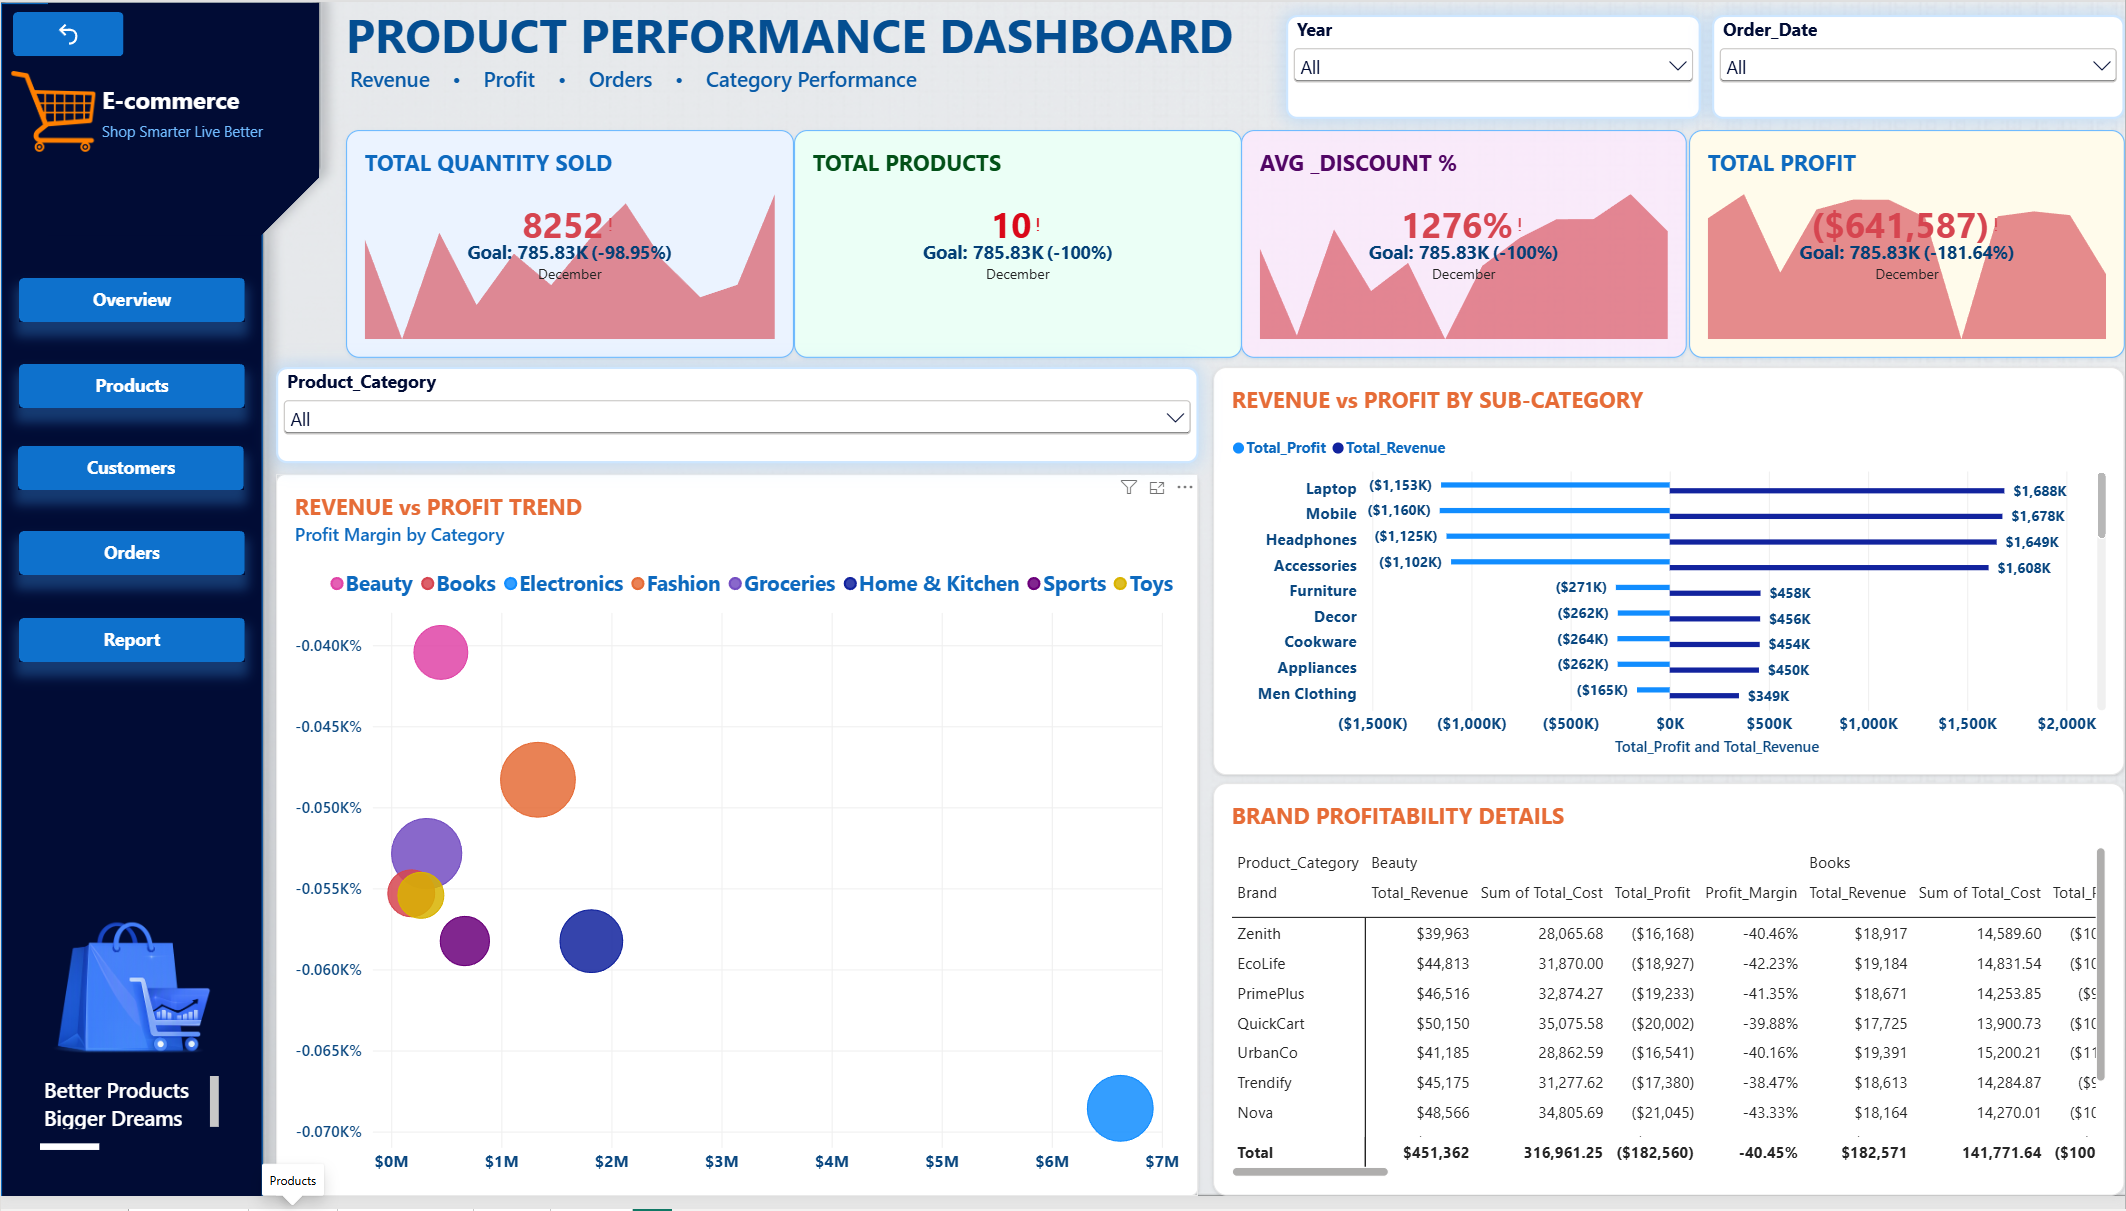

The dashboard page shown, as its layout file describes it:
{"tool":"powerbi","page":{"name":"Products","canvas":[1920,1080],"ordinal":1},"visuals":[{"type":"textbox","box":[312,0,820.6,98.3],"z":0},{"type":"textbox","box":[315.1,56.9,644.9,48.1],"z":1000},{"type":"shape","box":[0,0.9,236.6,1079.8],"z":2000,"group":"g1"},{"type":"slicer","fields":{"Values":["ecommerce_orders_dataset (1).Year"]},"box":[1161.8,11.3,375.3,93.6],"z":2000},{"type":"shape","box":[42.2,0.9,245.4,210.1],"z":3000,"group":"g1"},{"type":"slicer","fields":{"Values":["ecommerce_orders_dataset (1).Order_Date.Variation.Date Hierarchy.Month"]},"box":[1546.6,11.3,373.4,93.6],"z":3000},{"type":"group","id":"g1","title":"Group 1","box":[0,0.9,287.5,1079.3],"z":4000},{"type":"kpi","title":"TOTAL QUANTITY SOLD","fields":{"Goal":["Calendar.Revenue LY"],"Indicator":["Calendar.Total Quantity Sold"],"TrendLine":["Calendar.Calendar Month"]},"box":[312,115.3,404.6,206.1],"z":5000},{"type":"kpi","title":"TOTAL PRODUCTS","fields":{"Goal":["Calendar.Revenue LY"],"Indicator":["Calendar.Total Brands"],"TrendLine":["Calendar.Calendar Month"]},"box":[716.6,115.3,404.6,206.1],"z":6000},{"type":"kpi","title":"AVG _DISCOUNT %","fields":{"Goal":["Calendar.Revenue LY"],"Indicator":["Calendar.AVG Discount"],"TrendLine":["Calendar.Calendar Month"]},"box":[1121.2,115.3,402.7,206.1],"z":7000},{"type":"kpi","title":"TOTAL PROFIT","fields":{"Goal":["Calendar.Revenue LY"],"Indicator":["ecommerce_orders_dataset (1).Total_Profit"],"TrendLine":["Calendar.Calendar Month"]},"box":[1525.8,115.3,394.2,206.1],"z":8000},{"type":"image","box":[26.2,827.8,184.5,128.4],"z":9000},{"type":"textbox","box":[38.6,971.2,158,48.1],"z":10000},{"type":"shape","box":[34.9,989.9,53.6,89.8],"z":11000},{"type":"scatterChart","title":"REVENUE vs PROFIT TREND","fields":{"Series":["ecommerce_orders_dataset (1).Product_Category"],"Size":["Sum(ecommerce_orders_dataset (1).Quantity)"],"X":["ecommerce_orders_dataset (1).Total_Revenue"],"Y":["ecommerce_orders_dataset (1).Profit_Margin"]},"box":[248.6,426.4,833.8,653.2],"z":12000},{"type":"clusteredBarChart","title":"REVENUE vs PROFIT BY SUB-CATEGORY","fields":{"Category":["ecommerce_orders_dataset (1).Product_Subcategory"],"Y":["ecommerce_orders_dataset (1).Total_Profit","ecommerce_orders_dataset (1).Total_Revenue"]},"box":[1095.7,329.9,824.3,368.7],"z":13000},{"type":"pivotTable","title":"BRAND PROFITABILITY DETAILS","fields":{"Columns":["ecommerce_orders_dataset (1).Product_Category"],"Rows":["ecommerce_orders_dataset (1).Brand"],"Values":["ecommerce_orders_dataset (1).Total_Revenue","Sum(ecommerce_orders_dataset (1).Total_Cost)","ecommerce_orders_dataset (1).Total_Profit","ecommerce_orders_dataset (1).Profit_Margin"]},"box":[1095.7,706.2,824.3,373.4],"z":14000},{"type":"slicer","fields":{"Values":["ecommerce_orders_dataset (1).Product_Category"]},"box":[248.6,329.9,834,87],"z":15000},{"type":"actionButton","box":[16.3,249.5,204.3,39.8],"z":16000},{"type":"actionButton","box":[15.4,401.4,204.3,39.8],"z":17000},{"type":"actionButton","box":[16.3,478.2,204.3,39.8],"z":18000},{"type":"image","box":[6.3,62.4,82.5,72.6],"z":19000},{"type":"textbox","box":[91.3,74.1,145.5,31.6],"z":20000},{"type":"textbox","box":[91.2,106.2,158.2,47.9],"z":22000},{"type":"actionButton","box":[16.3,327.2,204.3,39.8],"z":23000},{"type":"actionButton","box":[16.3,556.8,204.3,39.8],"z":24000},{"type":"actionButton","box":[10.8,9,100,40],"z":24001}]}

Visuals, with their boxes on the page's 1920x1080 design canvas (x1, y1, x2, y2). These are canvas units, not pixel positions in the 2126x1211 screenshot, which may show the page scaled, cropped or inside an application window:
textbox: crop(312, 0, 1133, 98)
textbox: crop(315, 57, 960, 105)
shape: crop(0, 1, 237, 1081)
slicer - ecommerce_orders_dataset (1).Year: crop(1162, 11, 1537, 105)
shape: crop(42, 1, 288, 211)
slicer - ecommerce_orders_dataset (1).Order_Date.Variation.Date Hierarchy.Month: crop(1547, 11, 1920, 105)
"Group 1" group: crop(0, 1, 288, 1080)
"TOTAL QUANTITY SOLD" kpi: crop(312, 115, 717, 321)
"TOTAL PRODUCTS" kpi: crop(717, 115, 1121, 321)
"AVG _DISCOUNT %" kpi: crop(1121, 115, 1524, 321)
"TOTAL PROFIT" kpi: crop(1526, 115, 1920, 321)
image: crop(26, 828, 211, 956)
textbox: crop(39, 971, 197, 1019)
shape: crop(35, 990, 88, 1080)
"REVENUE vs PROFIT TREND" scatterChart: crop(249, 426, 1082, 1080)
"REVENUE vs PROFIT BY SUB-CATEGORY" clusteredBarChart: crop(1096, 330, 1920, 699)
"BRAND PROFITABILITY DETAILS" pivotTable: crop(1096, 706, 1920, 1080)
slicer - ecommerce_orders_dataset (1).Product_Category: crop(249, 330, 1083, 417)
actionButton: crop(16, 250, 221, 289)
actionButton: crop(15, 401, 220, 441)
actionButton: crop(16, 478, 221, 518)
image: crop(6, 62, 89, 135)
textbox: crop(91, 74, 237, 106)
textbox: crop(91, 106, 249, 154)
actionButton: crop(16, 327, 221, 367)
actionButton: crop(16, 557, 221, 597)
actionButton: crop(11, 9, 111, 49)
